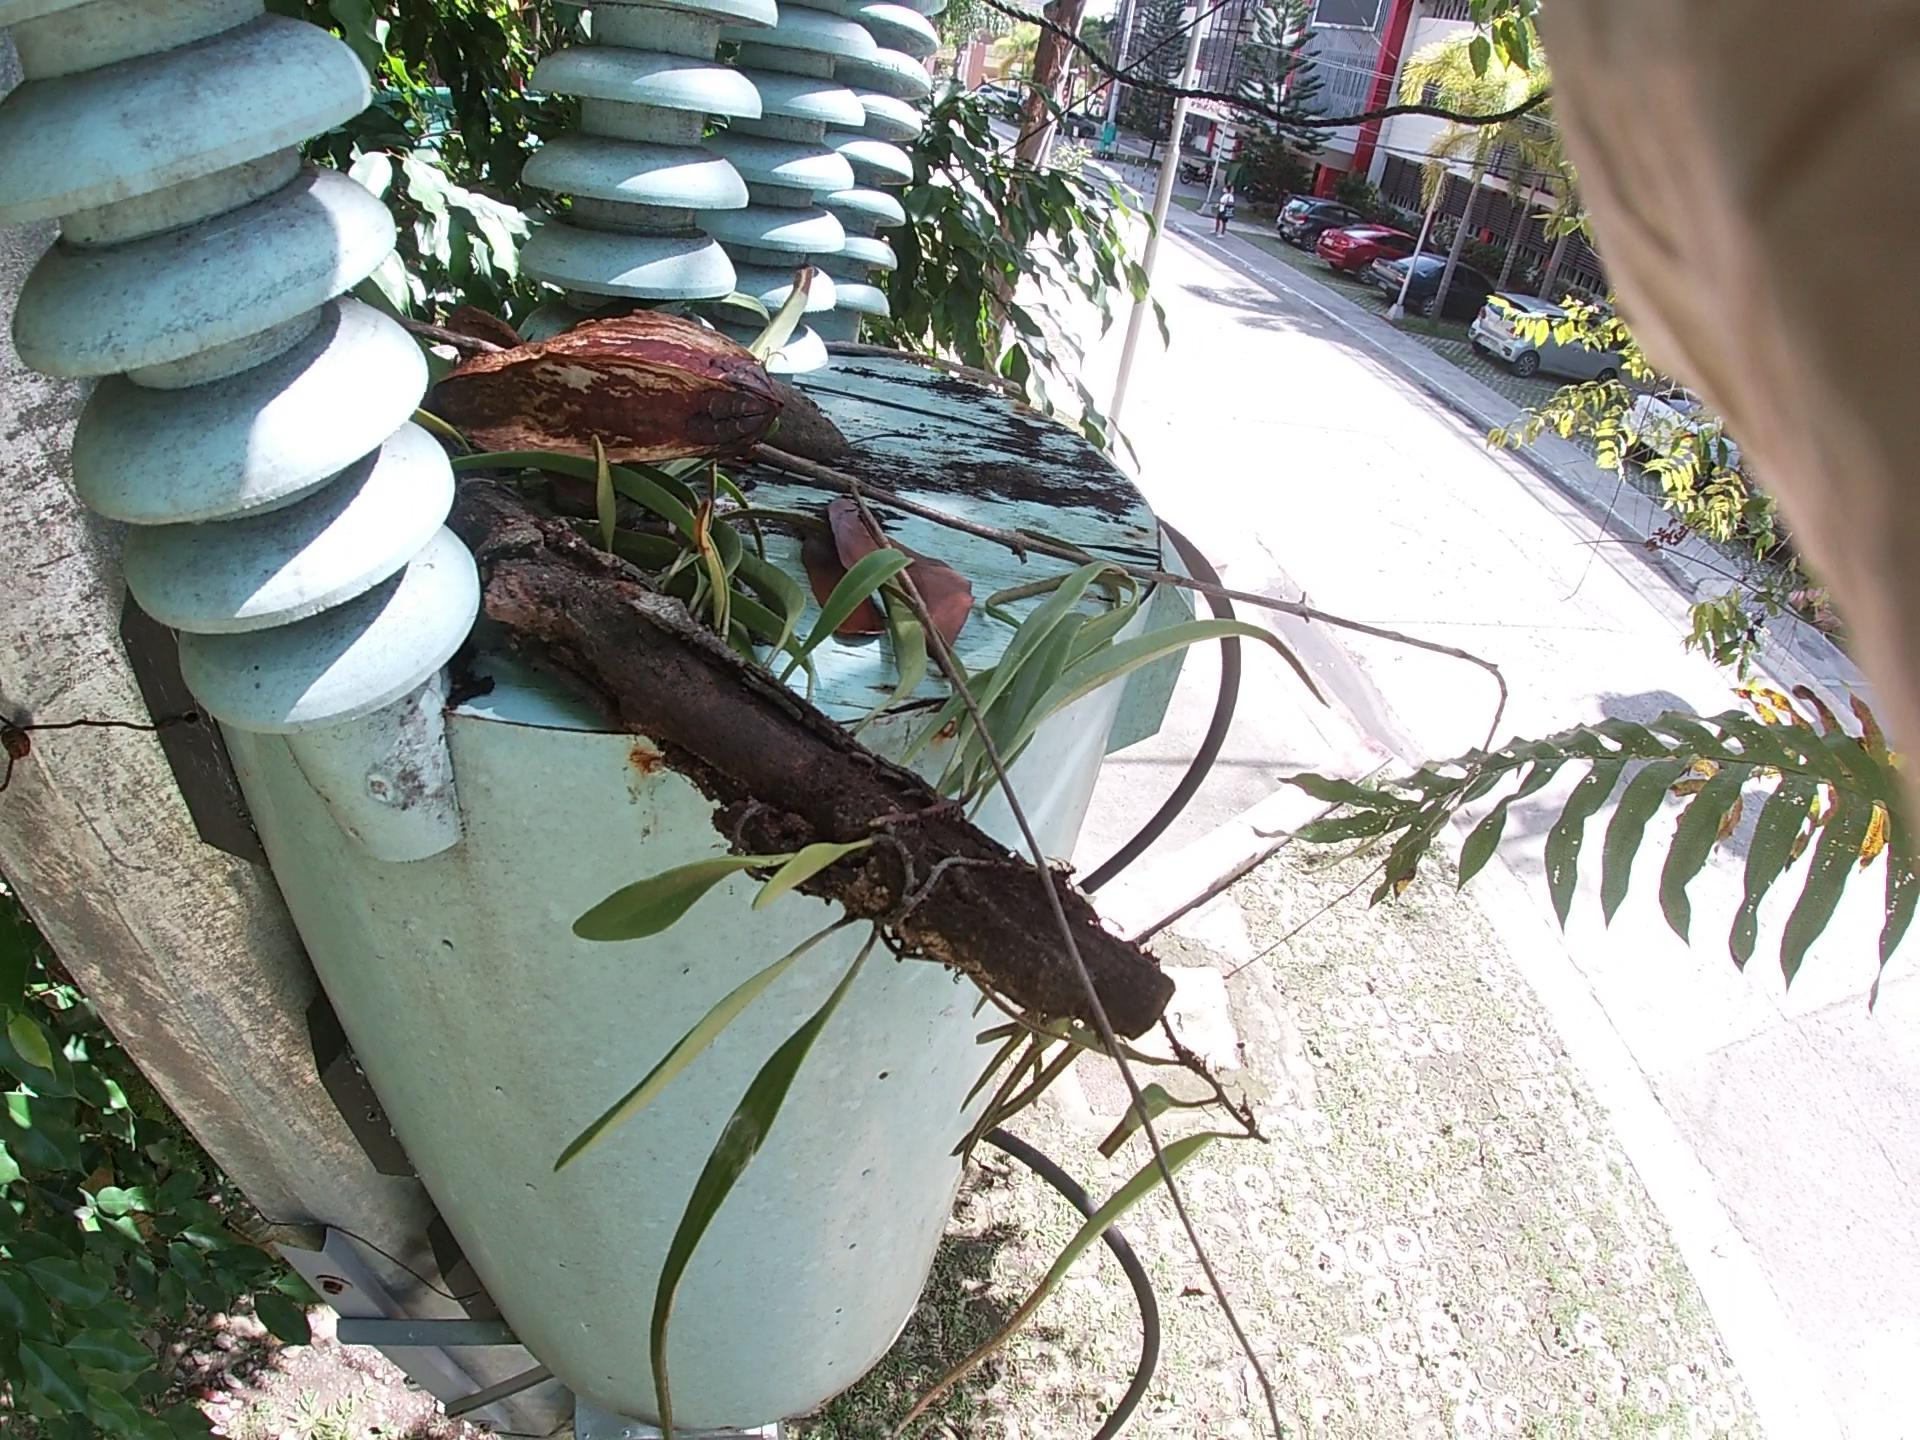branch with leaves: (451, 206, 1323, 953)
leaf: (803, 489, 990, 666)
mahogany fruit: (376, 213, 968, 563), (381, 257, 703, 393)
tree branch: (736, 442, 1510, 787), (732, 304, 1108, 393)
